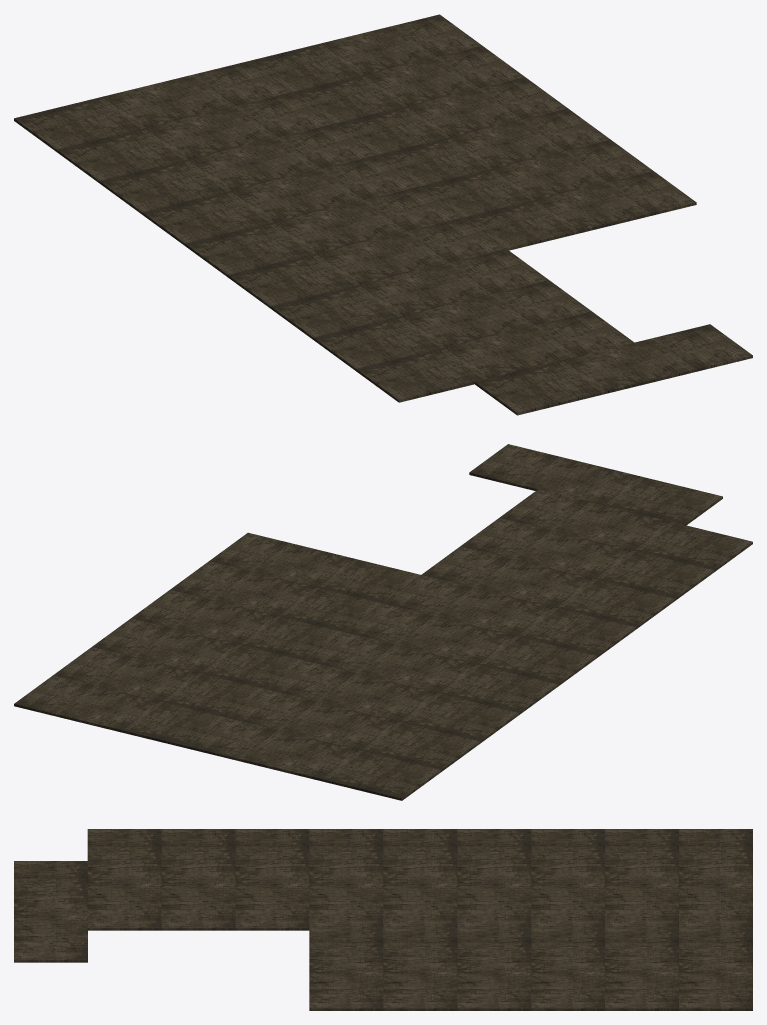
File: Palace_Floor.fbx
3 views of the same model, one above another, from view 1: azimuth 30°, elevation 25°; view 2: azimuth 150°, elevation 25°; view 3: azimuth 270°, elevation 25° (orthographic). The views are drawn at different scales.
Visible parts, largest first — view 1: Floor1; view 2: Floor1; view 3: Floor1.
Part boxes in pixels (left/top/right/bottom): Floor1: left=14, top=14, right=752, bottom=415; Floor1: left=14, top=444, right=752, bottom=800; Floor1: left=14, top=829, right=752, bottom=1010.
Size of the model in its own units: 386 by 2.24 by 671.
